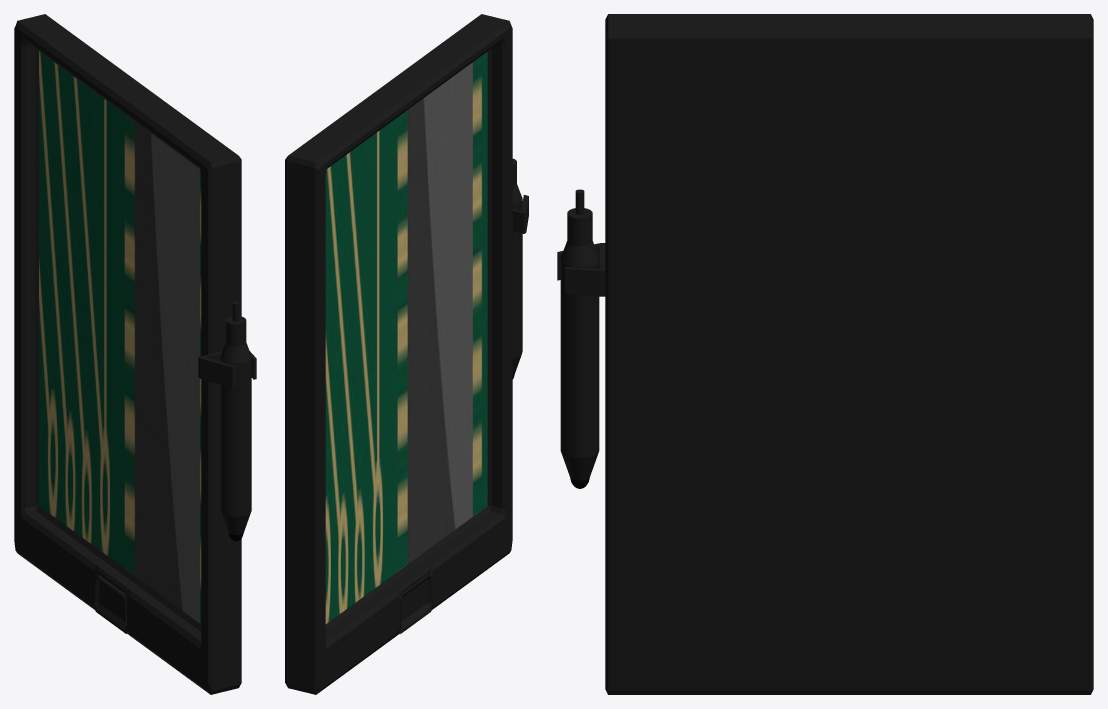
File: Microscope.fbx
3 views of the same model, side by side, from view 1: azimuth 30°, elevation 25°; view 2: azimuth 150°, elevation 25°; view 3: azimuth 270°, elevation 25° (orthographic). The views are drawn at different scales.
Parts seen in each view (by area): view 1: Microscope; view 2: Microscope; view 3: Microscope.
Part boxes in pixels (left/top/right/bottom): Microscope: left=14, top=14, right=256, bottom=694; Microscope: left=285, top=14, right=528, bottom=694; Microscope: left=557, top=14, right=1093, bottom=694.
Size of the model in its own units: 2.7 by 30 by 21.97.
